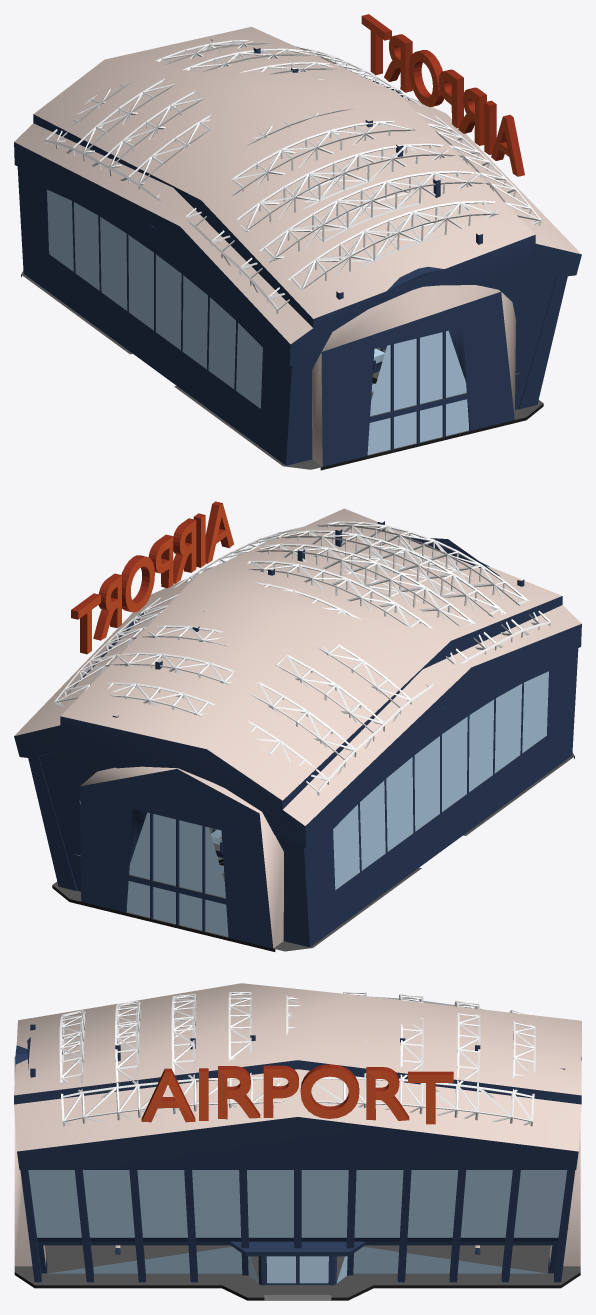
The model's file is terminal_pack1.glb.
3 views of the same model, one above another, from view 1: azimuth 30°, elevation 25°; view 2: azimuth 150°, elevation 25°; view 3: azimuth 270°, elevation 25° (orthographic).
Parts seen in each view (by area): view 1: 07.Modulo1_Cube.006; view 2: 07.Modulo1_Cube.006; view 3: 07.Modulo1_Cube.006.
Boxes of the visible parts, box(x1,y1,x2,y2) form: 07.Modulo1_Cube.006: box(14, 14, 581, 470); 07.Modulo1_Cube.006: box(14, 501, 581, 951); 07.Modulo1_Cube.006: box(14, 983, 581, 1300).
Bounding box in the file's own units: 42.21 × 32.42 × 70.25.
1 material, 1 textured.
